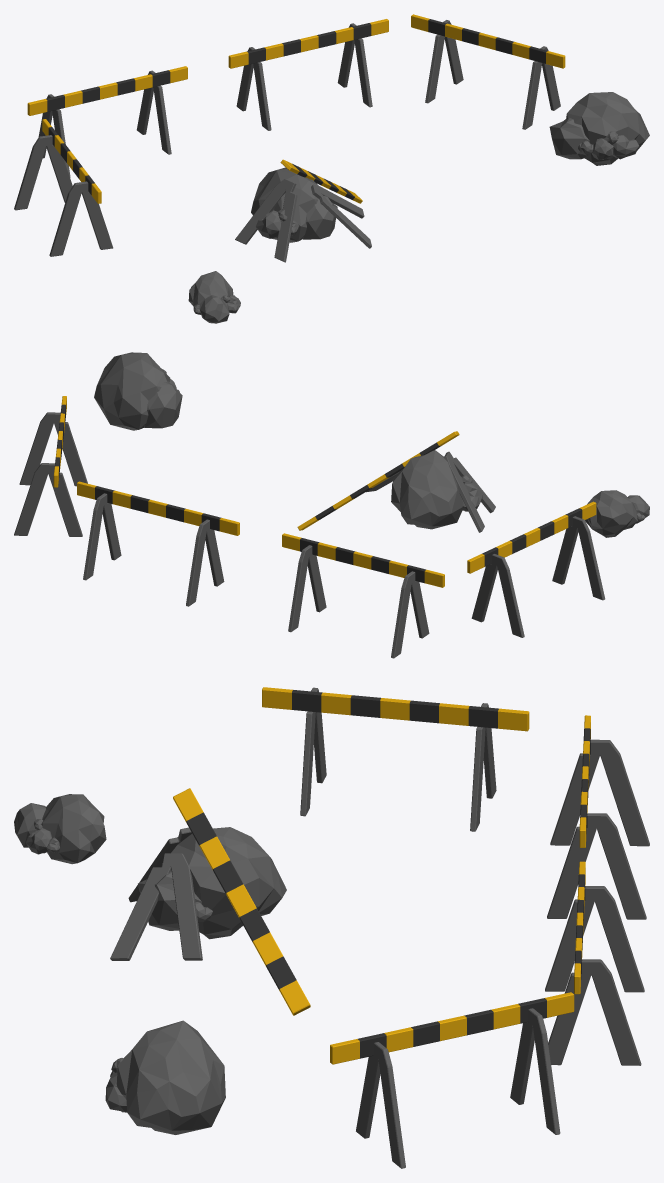
Rendered from obstacle-1.fbx.
The picture shows the model from 3 angles, top to bottom: view 1: azimuth 30°, elevation 25°; view 2: azimuth 150°, elevation 25°; view 3: azimuth 270°, elevation 25°; orthographic projection. The views are drawn at different scales.
Visible parts, largest first — view 1: Icosphere.017; view 2: Icosphere.017; view 3: Icosphere.017.
Boxes of the visible parts, x1=… form: Icosphere.017: x1=14, y1=14, x2=649, y2=323; Icosphere.017: x1=14, y1=352, x2=649, y2=658; Icosphere.017: x1=14, y1=687, x2=649, y2=1168.
Size of the model in its own units: 95.03 by 17.04 by 64.56.
